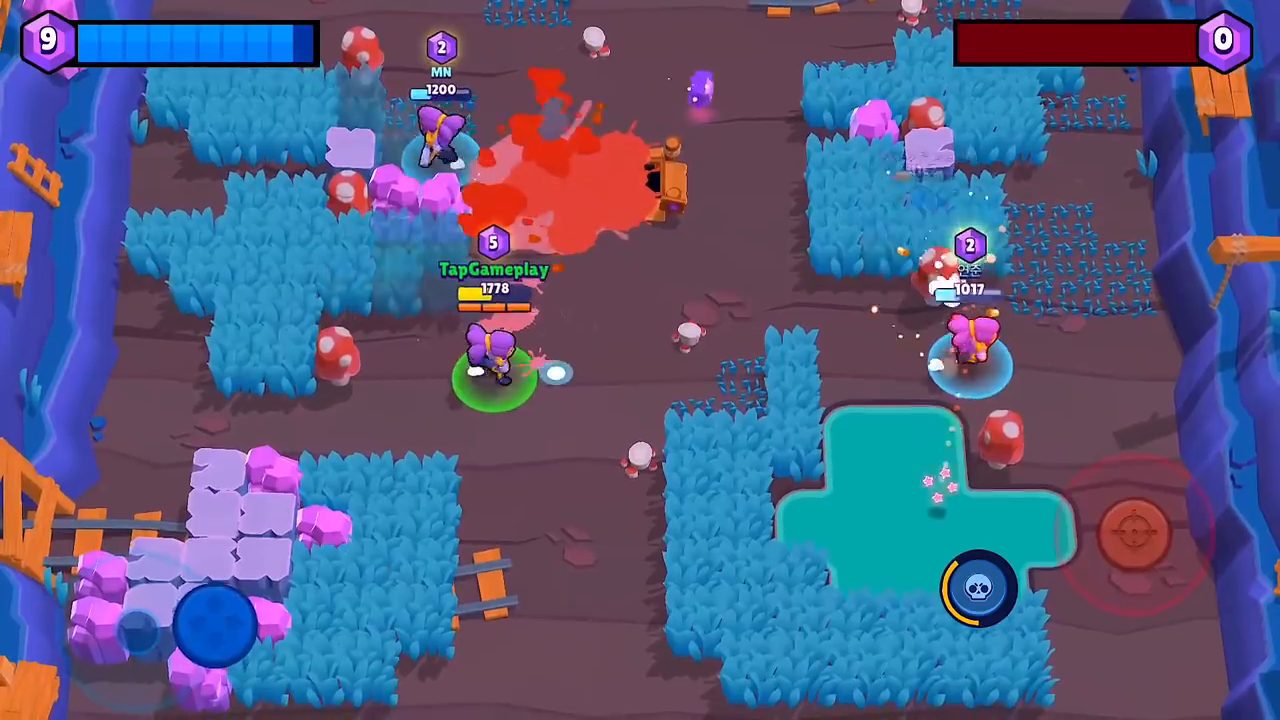move_stick: (176, 580, 270, 667)
